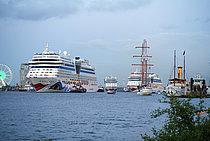Ship: (19, 41, 103, 98)
